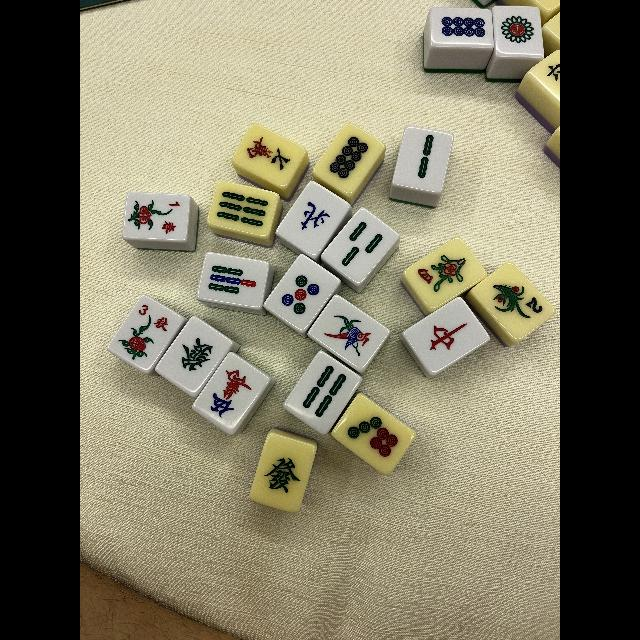b1: (320, 306, 380, 359)
b2: (397, 128, 449, 186)
b3: (336, 218, 388, 272)
b4: (296, 362, 352, 420)
b6: (211, 184, 273, 232)
b7: (202, 255, 264, 303)
c5: (205, 364, 257, 422)
c7: (238, 128, 298, 178)
d1: (496, 6, 542, 56)
d5: (274, 265, 328, 321)
d7: (342, 408, 406, 462)
d8: (324, 131, 374, 185), (431, 8, 493, 46)
dg: (258, 440, 308, 506), (171, 331, 221, 383)
dr: (417, 314, 477, 361)
f2-s: (483, 274, 549, 330)
s1: (158, 192, 188, 238)
s3: (136, 300, 172, 334)
s4-s: (413, 251, 472, 297)
wn: (286, 188, 340, 246)
